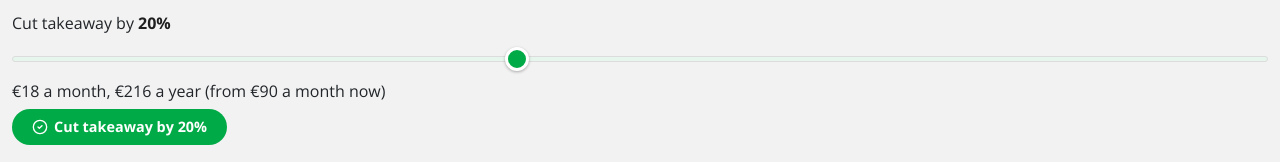
Scenario: cards › slider has a button that sends the chosen cut to the coach
This screenshot has width=1280, height=162.
Step 1. Set the slider to "25" → (640, 59), box [12,45,1268,73]
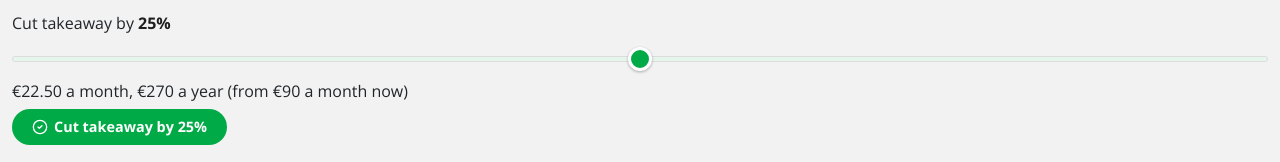
Step 2. Click the button "Cut takeaway by 25%" → click(120, 127), box [12,109,227,145]
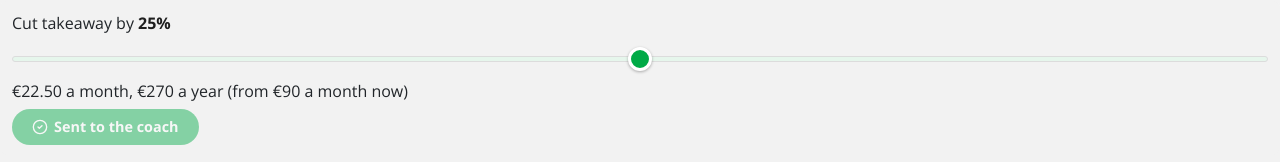
Check: the button "Sent to the coach" is disabled, box [12,109,199,145]
Note: Moving the slider again allows sending the new amount.
Step 3. Set the slider to "30" → (764, 59), box [12,45,1268,73]
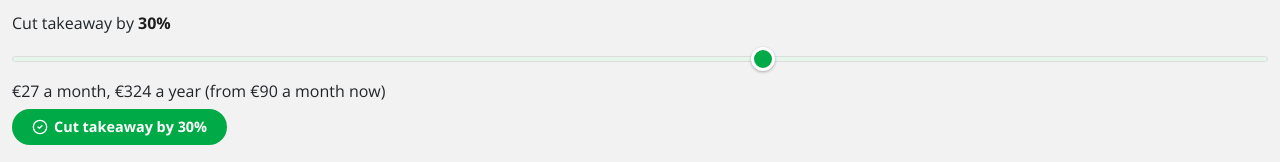
Check: the button "Cut takeaway by 30%" is enabled, box [12,109,227,145]
